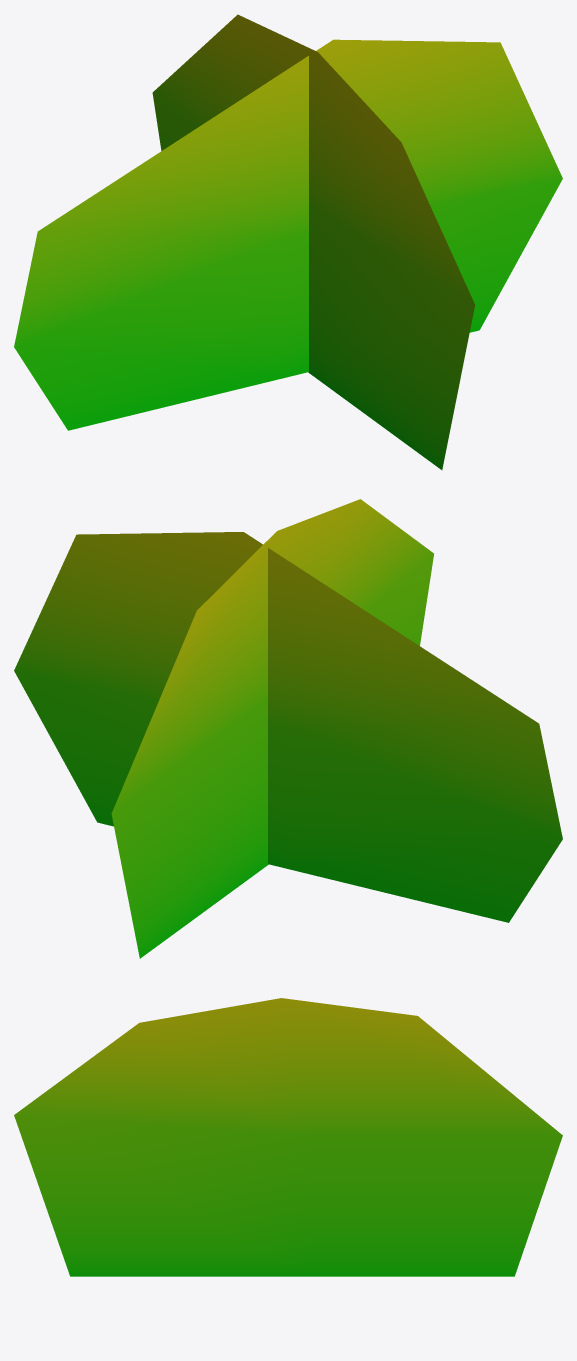
Rendered from Lingonberry_LOD5_Var17_wjhjahlqx.fbx.
3 renders of one model, top to bottom at view 1: azimuth 30°, elevation 25°; view 2: azimuth 150°, elevation 25°; view 3: azimuth 270°, elevation 25°, orthographic. The views are drawn at different scales.
Parts seen in each view (by area): view 1: _6q6k_Var17_LOD5; view 2: _6q6k_Var17_LOD5; view 3: _6q6k_Var17_LOD5.
Boxes of the visible parts, x1,y1,x2,y2 form: _6q6k_Var17_LOD5: (14, 14, 562, 470); _6q6k_Var17_LOD5: (14, 499, 562, 958); _6q6k_Var17_LOD5: (14, 998, 562, 1276).
Bounding box in the file's own units: 22.81 × 13 × 23.22.
